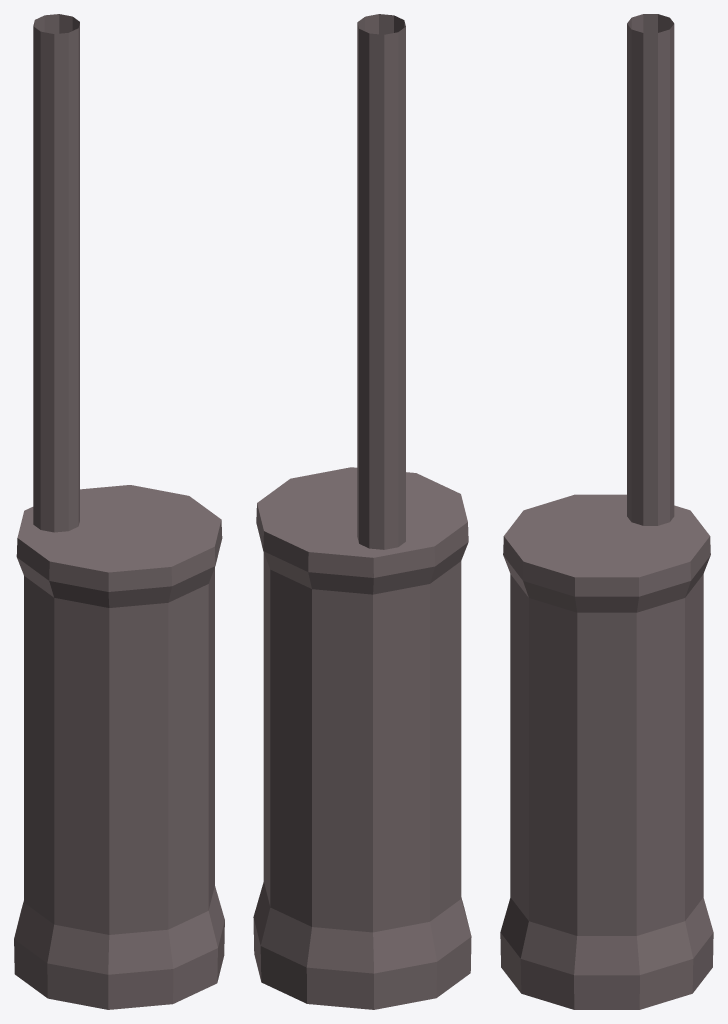
Rendered from heaterCollider.fbx.
3 renders of one model, left to right at view 1: azimuth 30°, elevation 25°; view 2: azimuth 150°, elevation 25°; view 3: azimuth 270°, elevation 25°, orthographic. The views are drawn at different scales.
Parts seen in each view (by area): view 1: HeaterCollider; view 2: HeaterCollider; view 3: HeaterCollider.
Boxes of the visible parts, <box> form: HeaterCollider: <box>14,14,224,1009</box>; HeaterCollider: <box>253,14,471,1009</box>; HeaterCollider: <box>500,14,713,1009</box>.
Size of the model in its own units: 0.9044 by 0.951 by 4.55.
Materials: 1 (1 with a texture image).
